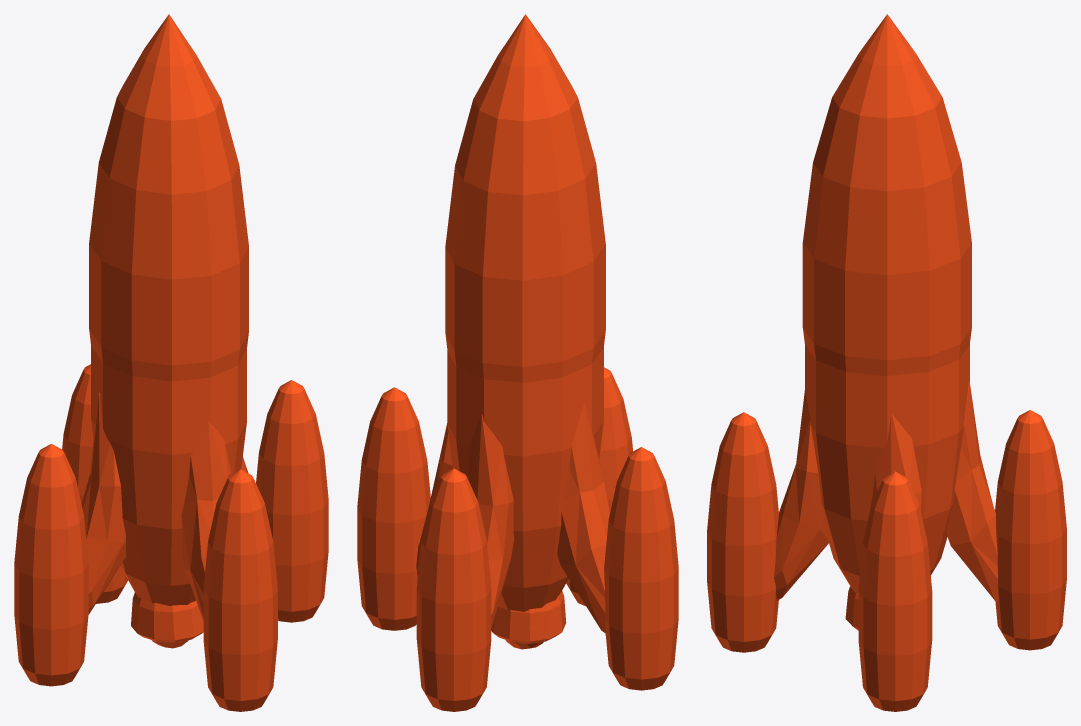
File: red-rocket-by-guillaume-brette-dc_PSZQU-Ck.glb
3 views of the same model, side by side, from view 1: azimuth 30°, elevation 25°; view 2: azimuth 150°, elevation 25°; view 3: azimuth 270°, elevation 25° (orthographic).
Visible parts, largest first — view 1: group815778749; view 2: group815778749; view 3: group815778749.
Part boxes in pixels (<box>): group815778749: <box>14,14,328,711</box>; group815778749: <box>357,14,678,711</box>; group815778749: <box>707,14,1066,711</box>.
Bounding box in the file's own units: 0.2656 × 0.5239 × 0.2717.
